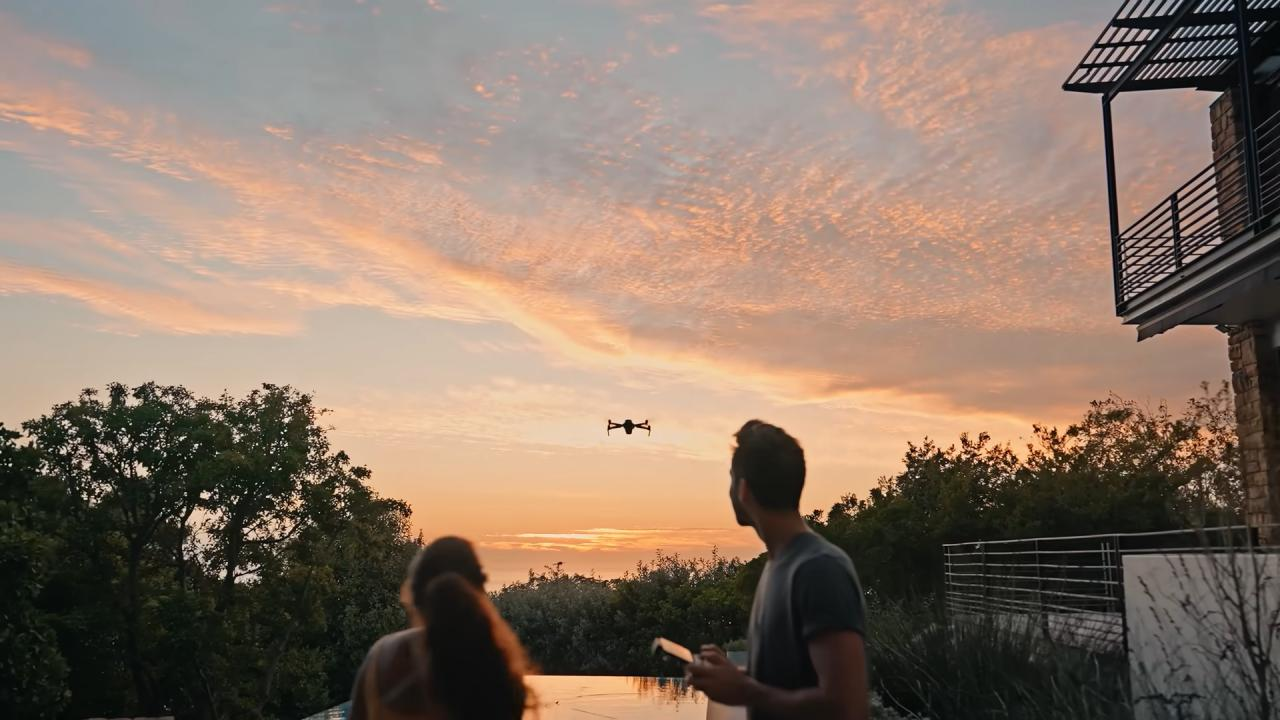Drone: (594, 407, 664, 448)
